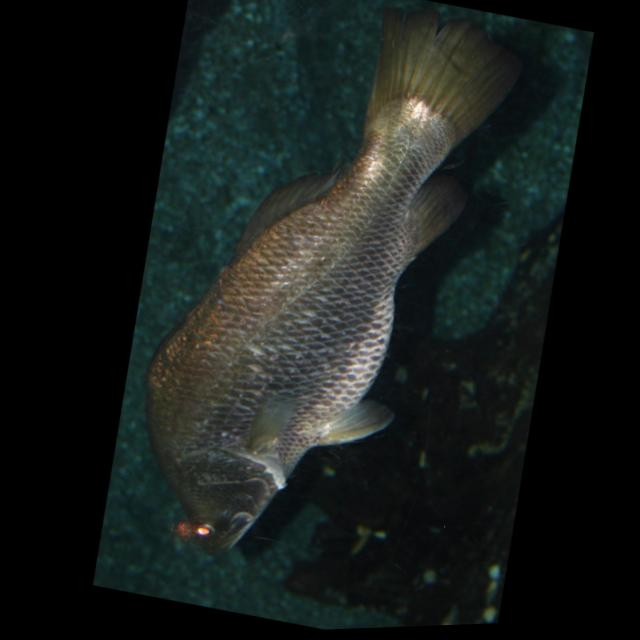Seabass: (77, 0, 567, 610)
